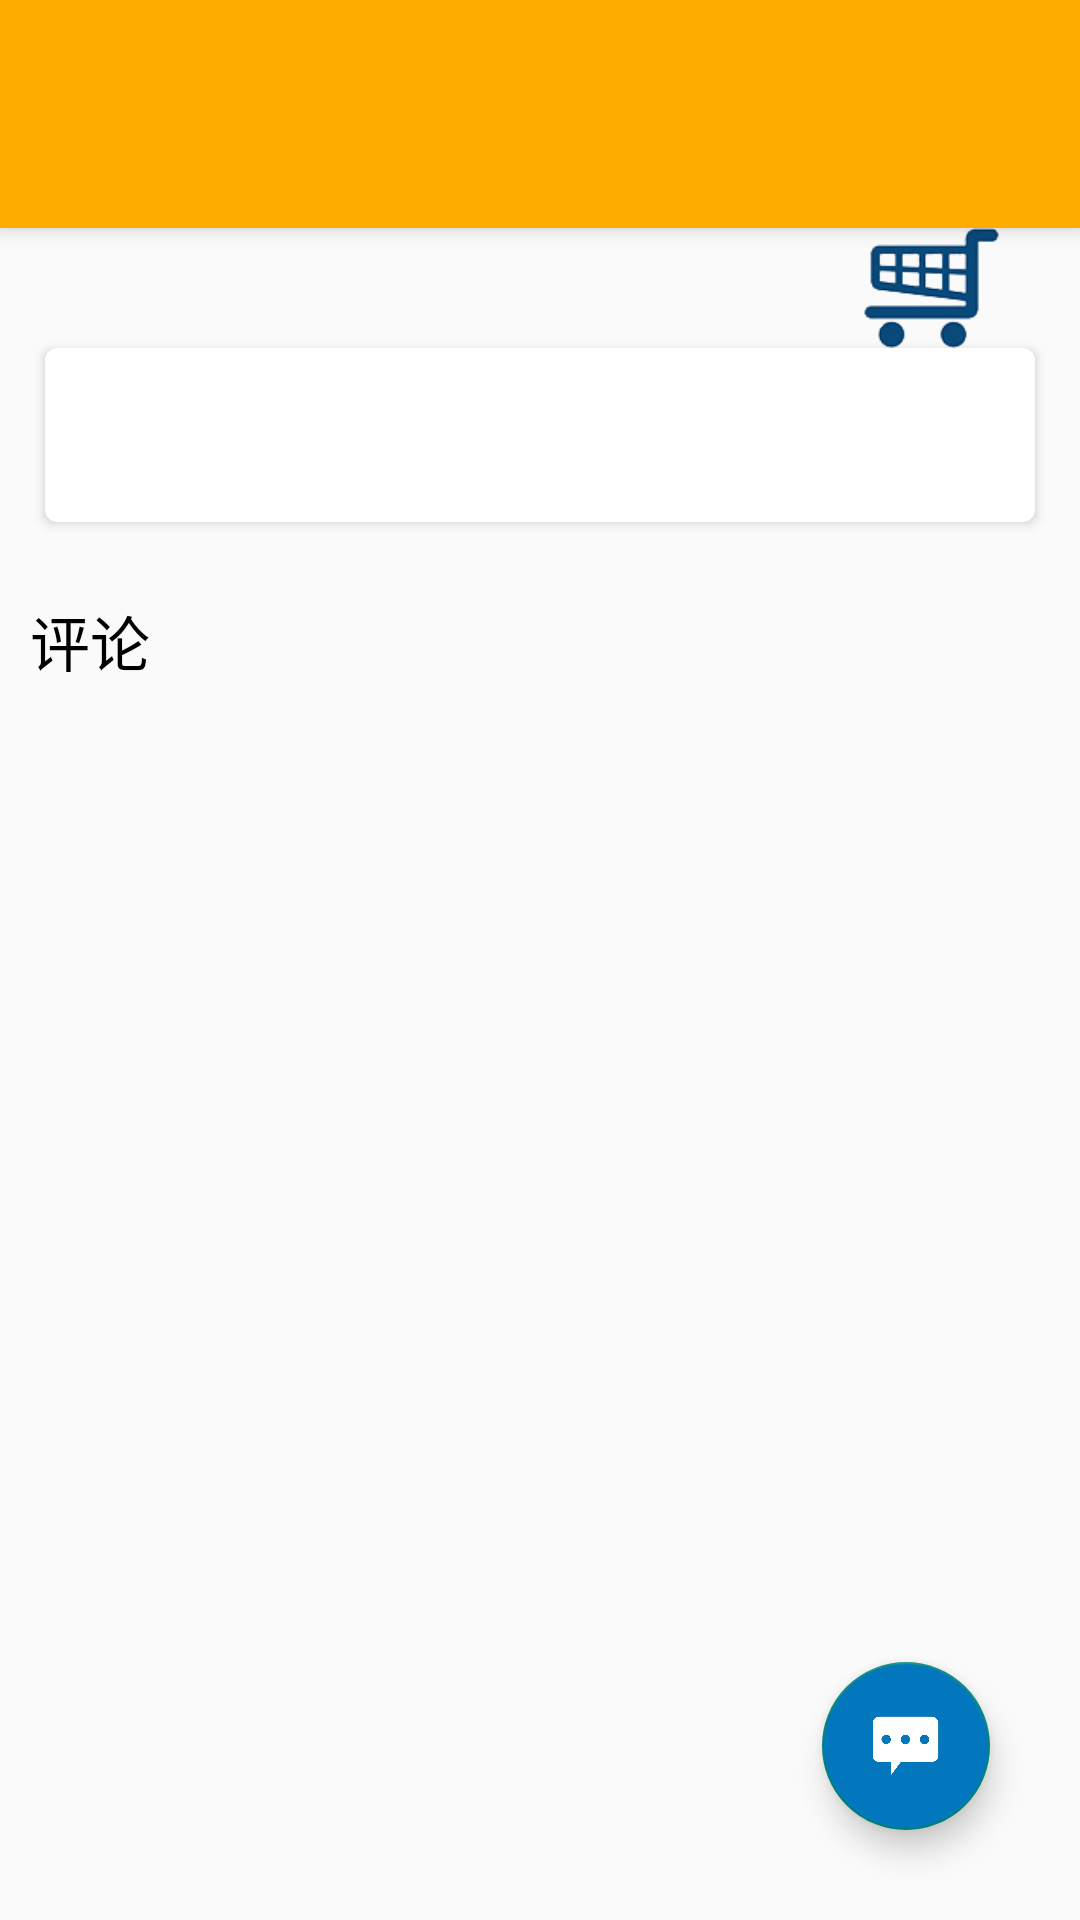

Icon click points for this 1080w x 1920h phone screenshot, format (x=x, y=y):
comment: (x=906, y=1746)
shop add: (x=933, y=288)
